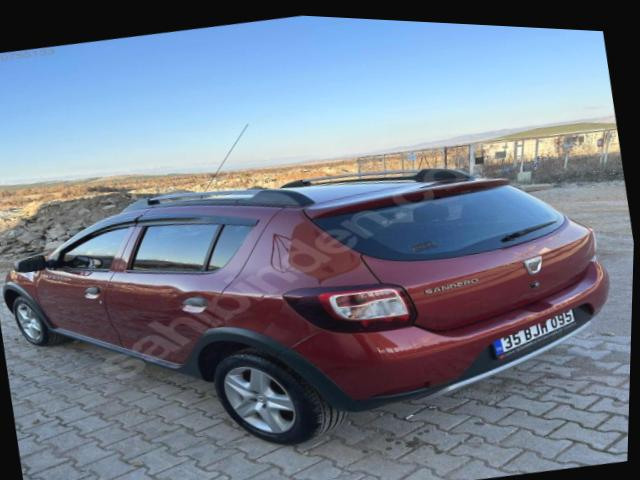plaka: (492, 309, 574, 358)
